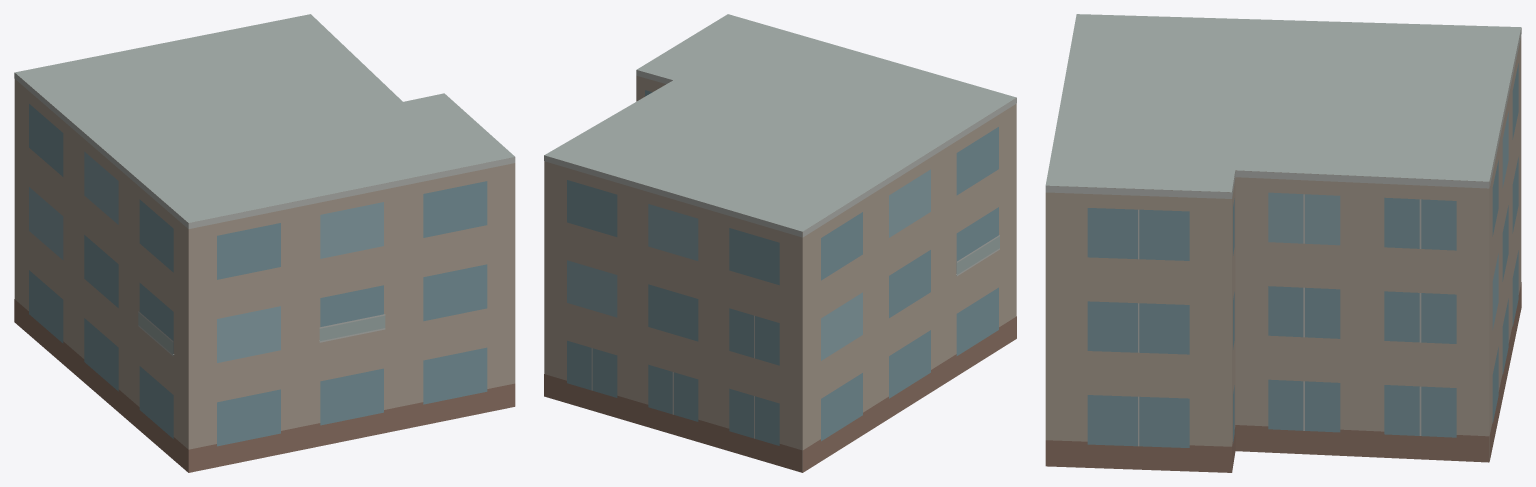
File: survey-upis-32840001.glb
3 views of the same model, side by side, from view 1: azimuth 30°, elevation 25°; view 2: azimuth 150°, elevation 25°; view 3: azimuth 270°, elevation 25° (orthographic). The views are drawn at different scales.
Parts seen in each view (by area): view 1: survey-upis-32840001.tmp; view 2: survey-upis-32840001.tmp; view 3: survey-upis-32840001.tmp.
Boxes of the visible parts, x1,y1,x2,y2 form: survey-upis-32840001.tmp: (14, 14, 515, 472); survey-upis-32840001.tmp: (544, 14, 1016, 472); survey-upis-32840001.tmp: (1045, 14, 1521, 472).
Size of the model in its own units: 13.62 by 10 by 15.38.
